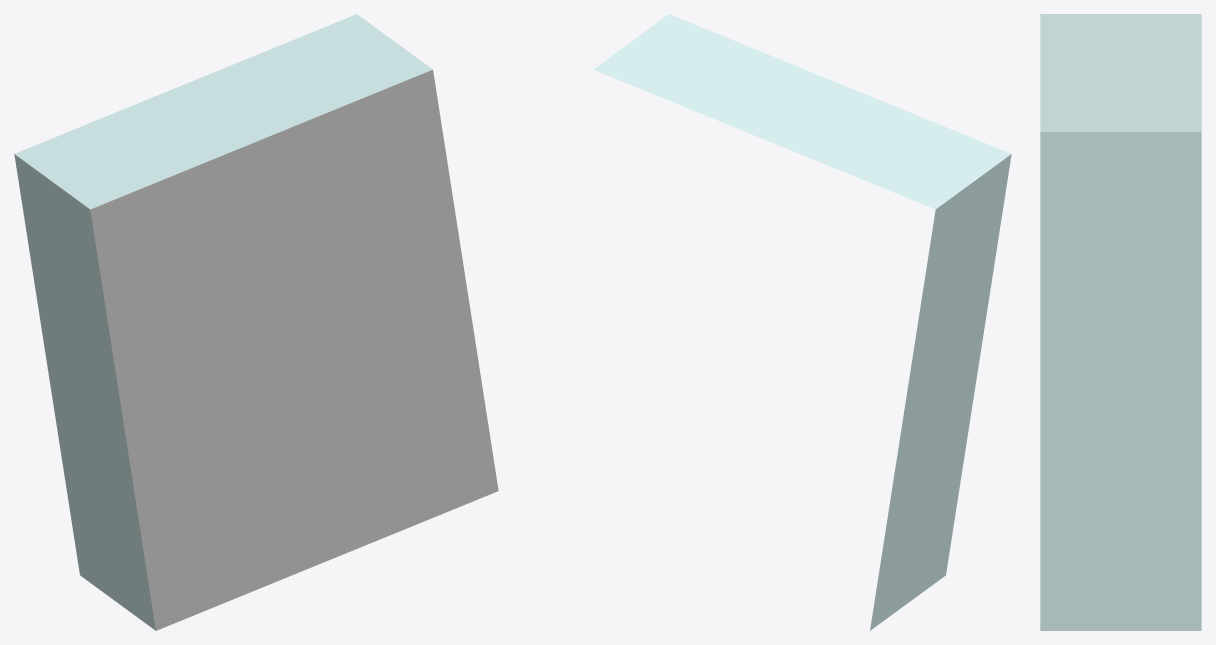
The picture shows the model from 3 angles, left to right: view 1: azimuth 30°, elevation 25°; view 2: azimuth 150°, elevation 25°; view 3: azimuth 270°, elevation 25°; orthographic projection. The views are drawn at different scales.
Visible parts, largest first — view 1: 0_0_2_1_1_0_1_1_0; view 2: 0_0_2_1_1_0_1_1_0; view 3: 0_0_2_1_1_0_1_1_0.
Boxes of the visible parts, <box> form: 0_0_2_1_1_0_1_1_0: <box>14,14,498,630</box>; 0_0_2_1_1_0_1_1_0: <box>593,14,1011,630</box>; 0_0_2_1_1_0_1_1_0: <box>1040,14,1201,630</box>.
Bounding box in the file's own units: 9.3 × 10.75 × 3.
